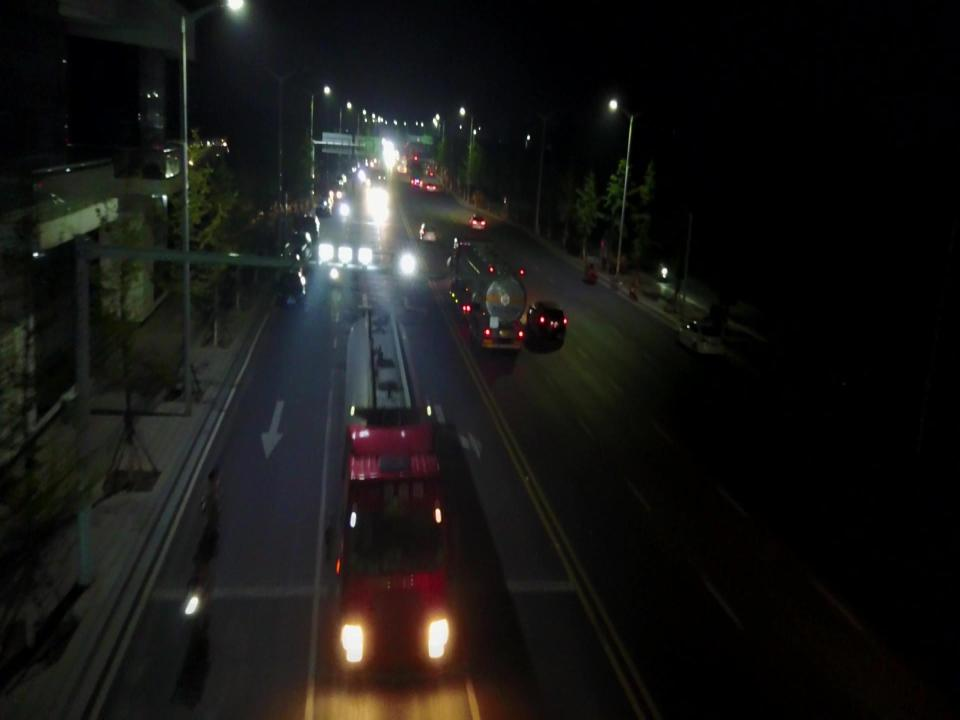car: (528, 299, 566, 344), (276, 270, 306, 311), (284, 231, 312, 260), (298, 213, 320, 240), (420, 222, 436, 244), (411, 160, 423, 189), (469, 212, 487, 231), (317, 195, 331, 218)
truck: (325, 310, 464, 686), (452, 238, 526, 350), (421, 162, 441, 192)
